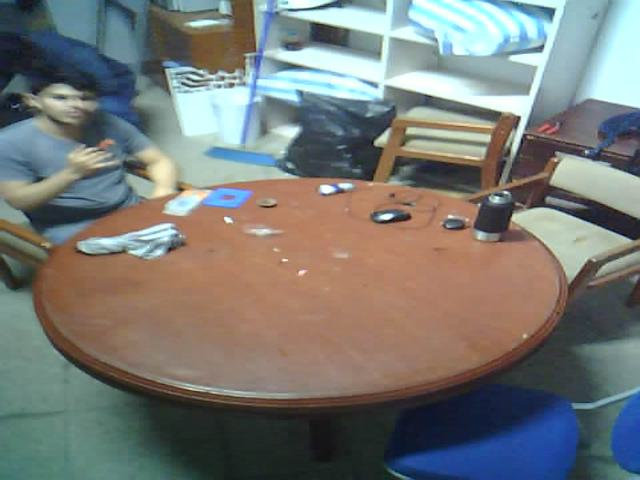person: (0, 74, 195, 252), (0, 22, 160, 113)
